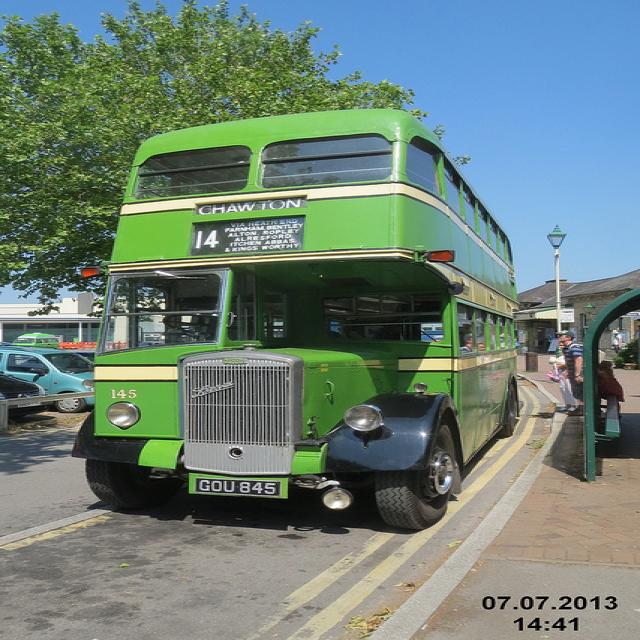Vehicle: (68, 111, 520, 527), (0, 344, 97, 413), (0, 372, 55, 422), (12, 332, 60, 348)
